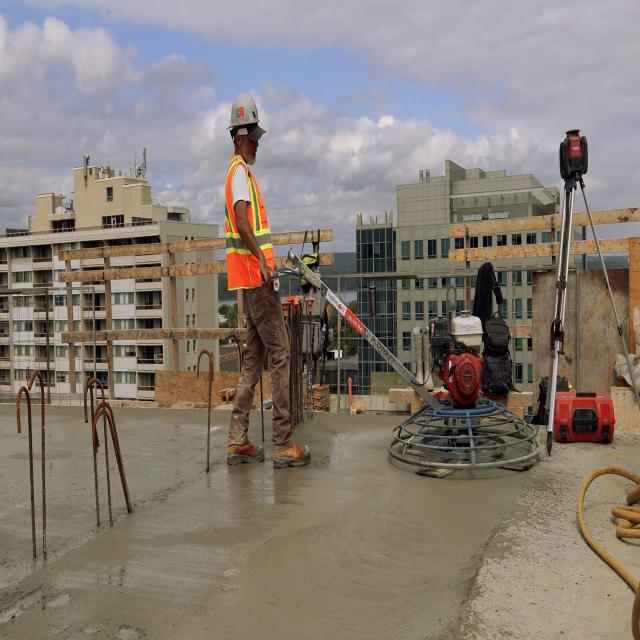Boots: (272, 429, 314, 470), (225, 436, 267, 469)
Helmet: (226, 88, 264, 128)
Vest: (224, 155, 276, 288)
